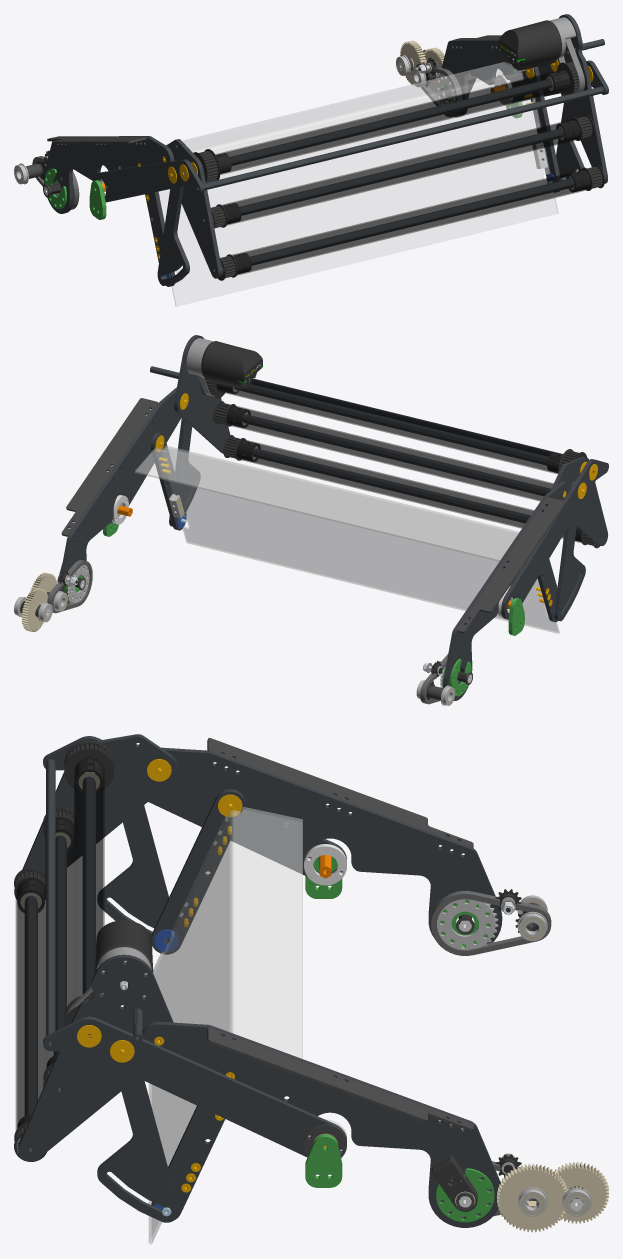
3 renders of one model, top to bottom at view 1: azimuth 30°, elevation 25°; view 2: azimuth 150°, elevation 25°; view 3: azimuth 270°, elevation 25°, orthographic. The views are drawn at different scales.
Parts seen in each view (by area): view 1: 4201-26-P-0309, 4201-26-P-0337 (×3), 4201-26-P-0328 (×3), 4201-26-P-0303-Mirrored, 4201-26-P-0304 (×2), 4201-26-P-0329, 4201-26-P-0303, 20t Pulley w/ 1-1/8" OD Aluminum Stub Roller Hub (5mm HTD) (×4), 4201-26-P-0325, Kraken X60 Brushless Motor, 4201-26-P-0305, 4201-26-P-0307-Mirrored (+11 smaller); view 2: 4201-26-P-0309, 4201-26-P-0337 (×3), 4201-26-P-0328 (×3), 4201-26-P-0333 (×2), 4201-26-P-0303, 4201-26-P-0304 (×2), 4201-26-P-0305, 4201-26-P-0303-Mirrored, Kraken X60 Brushless Motor, 4201-26-P-0329, 4201-26-P-0307-Mirrored, 4201-26-P-0325 (+8 smaller); view 3: 4201-26-P-0309, 4201-26-P-0337 (×3), 4201-26-P-0303-Mirrored, 4201-26-P-0304 (×2), 4201-26-P-0303, 4201-26-P-0305, 4201-26-P-0328 (×3), 4201-26-P-0333 (×2), 4201-26-P-0325, 4201-26-P-0307, 4201-26-P-0307-Mirrored, 4201-26-P-0306-Mirrored (+13 smaller).
Boxes of the visible parts, bbox=[...] form: 4201-26-P-0309: bbox=[158, 62, 558, 306]; 4201-26-P-0337 (×3): bbox=[215, 69, 590, 275]; 4201-26-P-0328 (×3): bbox=[229, 79, 574, 265]; 4201-26-P-0303-Mirrored: bbox=[44, 136, 174, 213]; 4201-26-P-0304 (×2): bbox=[93, 60, 608, 202]; 4201-26-P-0329: bbox=[203, 86, 604, 190]; 4201-26-P-0303: bbox=[442, 39, 550, 117]; 20t Pulley w/ 1-1/8" OD Aluminum Stub Roller Hub (5mm HTD) (×4): bbox=[210, 114, 604, 280]; 4201-26-P-0325: bbox=[166, 139, 222, 278]; Kraken X60 Brushless Motor: bbox=[498, 20, 561, 70]; 4201-26-P-0305: bbox=[549, 14, 607, 183]; 4201-26-P-0307-Mirrored: bbox=[157, 186, 189, 285]; 4201-26-P-0309: bbox=[135, 445, 559, 633]; 4201-26-P-0337 (×3): bbox=[216, 378, 581, 542]; 4201-26-P-0328 (×3): bbox=[235, 384, 550, 523]; 4201-26-P-0333 (×2): bbox=[61, 398, 565, 633]; 4201-26-P-0303: bbox=[60, 387, 177, 603]; 4201-26-P-0304 (×2): bbox=[110, 413, 608, 619]; 4201-26-P-0305: bbox=[174, 335, 230, 453]; 4201-26-P-0303-Mirrored: bbox=[443, 481, 570, 700]; Kraken X60 Brushless Motor: bbox=[201, 341, 262, 389]; 4201-26-P-0329: bbox=[251, 378, 562, 456]; 4201-26-P-0307-Mirrored: bbox=[554, 480, 585, 621]; 4201-26-P-0325: bbox=[551, 456, 608, 545]; 4201-26-P-0309: bbox=[148, 807, 302, 1244]; 4201-26-P-0337 (×3): bbox=[16, 758, 104, 1129]; 4201-26-P-0303-Mirrored: bbox=[156, 747, 502, 944]; 4201-26-P-0304 (×2): bbox=[43, 736, 346, 1157]; 4201-26-P-0303: bbox=[142, 1021, 500, 1227]; 4201-26-P-0305: bbox=[19, 954, 173, 1160]; 4201-26-P-0328 (×3): bbox=[24, 776, 95, 1149]; 4201-26-P-0333 (×2): bbox=[207, 738, 473, 1131]; 4201-26-P-0325: bbox=[22, 734, 177, 874]; 4201-26-P-0307: bbox=[97, 1067, 178, 1222]; 4201-26-P-0307-Mirrored: bbox=[97, 805, 169, 940]; 4201-26-P-0306-Mirrored: bbox=[151, 789, 245, 954].
Bounding box in the file's own units: 0.7623 × 0.3302 × 0.6137.
